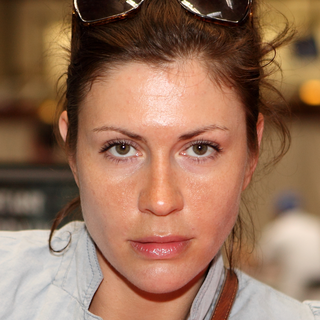eye: (99, 136, 144, 163), (176, 138, 224, 163)
